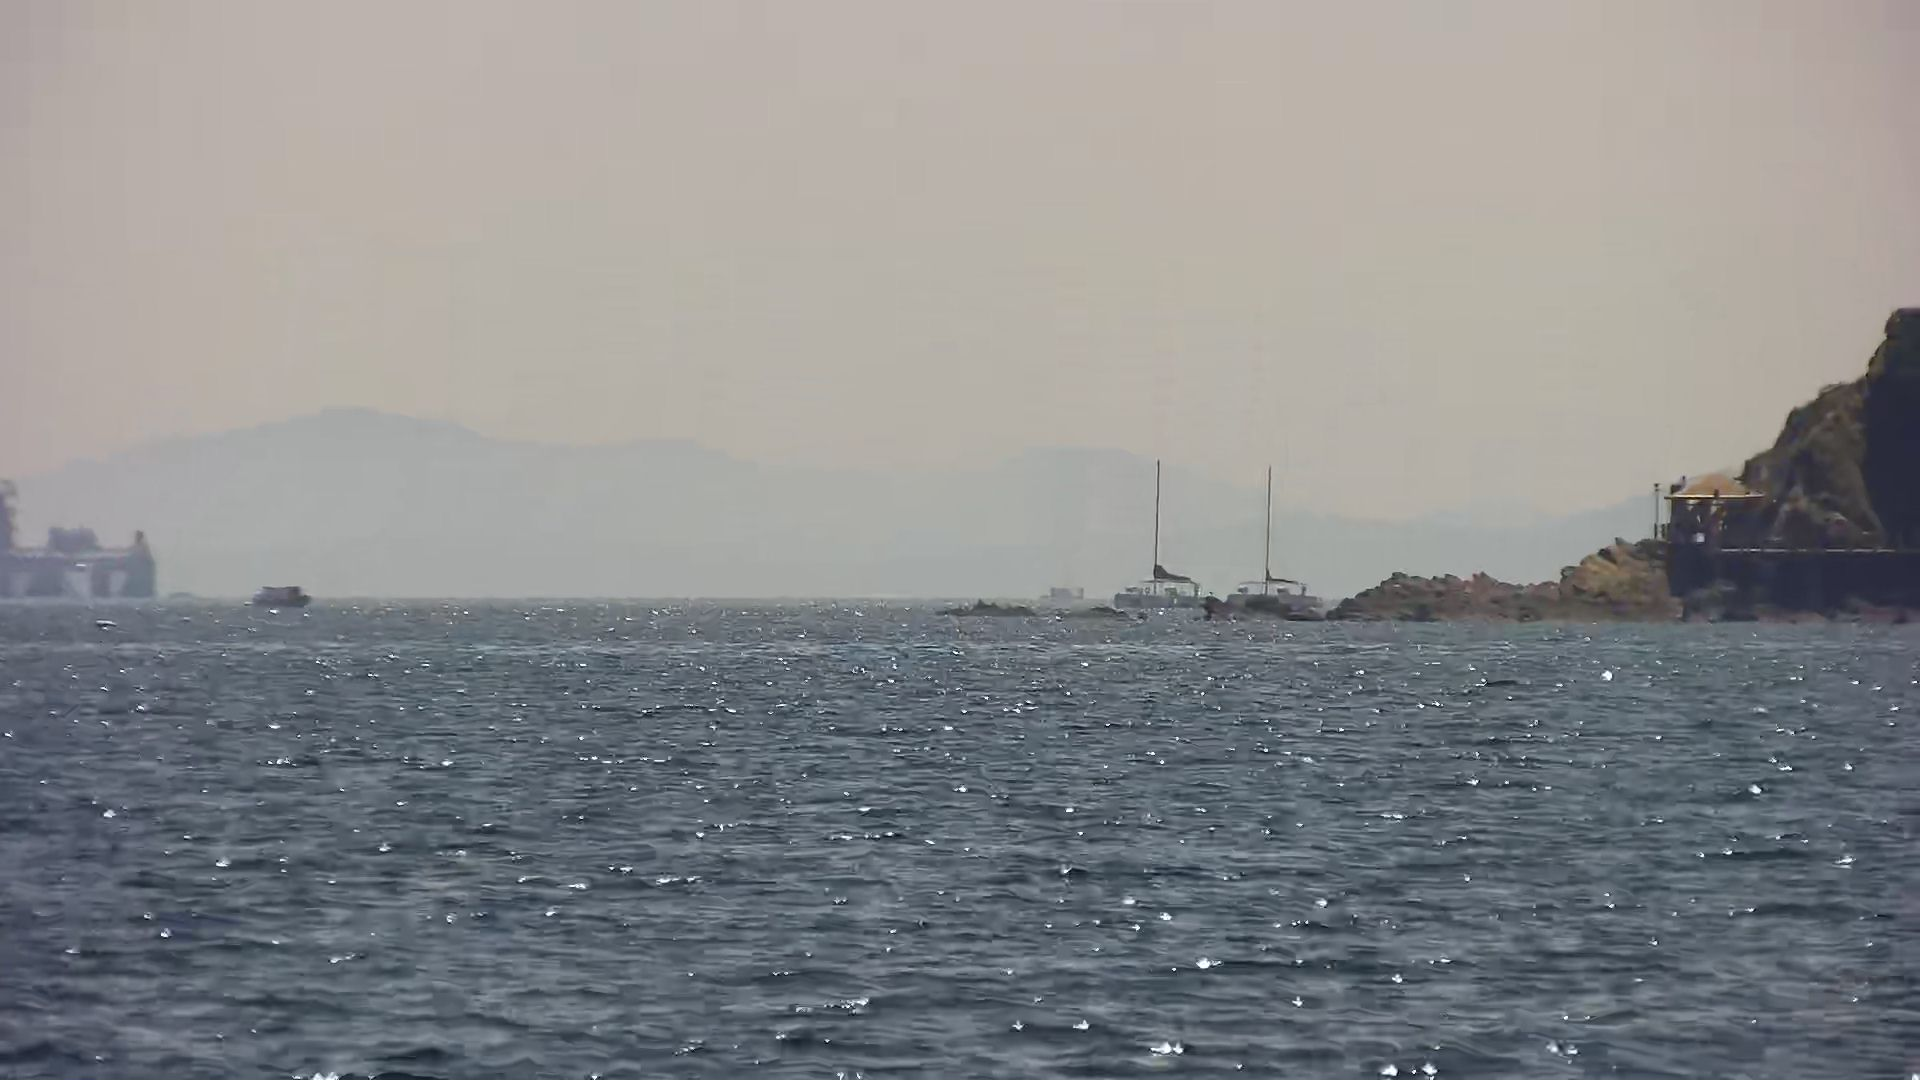boat: (1112, 448, 1215, 622), (1216, 463, 1320, 626), (249, 584, 313, 608)
platform: (1, 502, 144, 589)
rock: (939, 593, 1131, 632)
